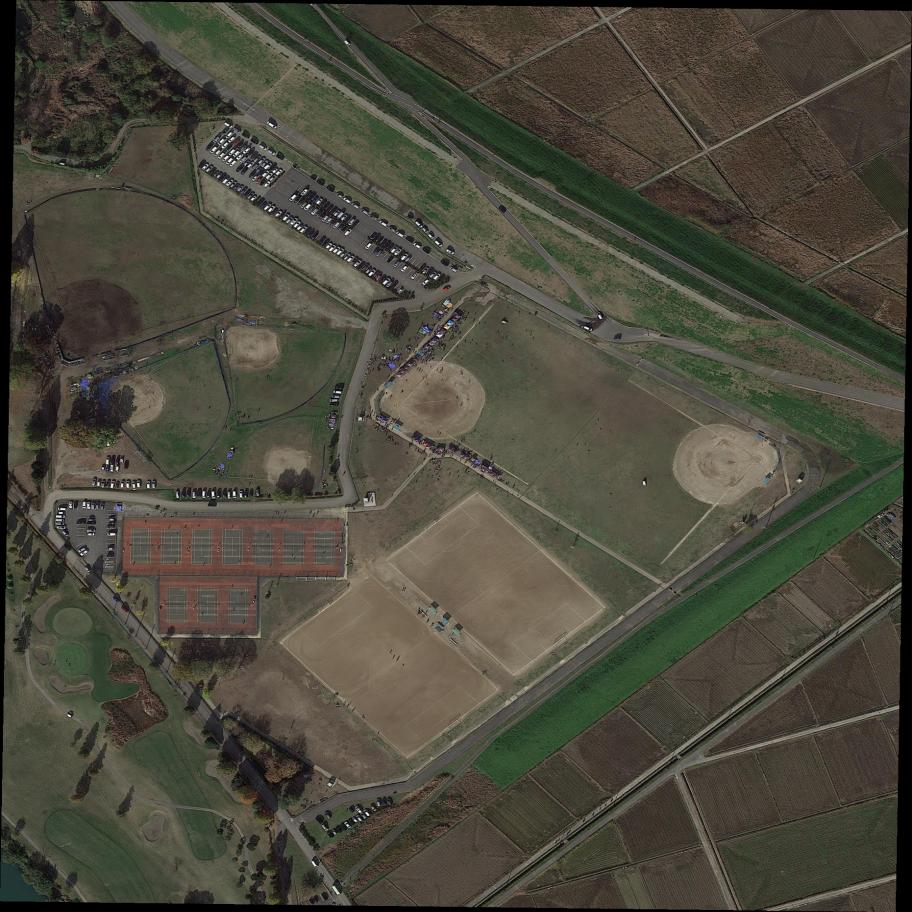large-vehicle: (335, 210, 345, 220), (59, 161, 67, 167)
small-vehicle: (495, 202, 509, 217), (345, 253, 356, 265), (217, 171, 228, 183), (409, 270, 420, 282), (298, 224, 309, 235), (306, 228, 317, 239), (224, 177, 235, 188), (208, 145, 219, 156), (252, 154, 263, 165), (62, 542, 73, 553), (433, 238, 444, 249), (249, 150, 259, 162), (320, 822, 330, 834), (440, 284, 452, 294), (197, 158, 207, 169), (289, 216, 299, 227), (281, 212, 291, 223), (205, 163, 215, 174), (262, 201, 272, 212), (353, 258, 363, 269), (368, 213, 379, 223), (367, 267, 377, 278), (399, 263, 409, 274), (331, 885, 341, 896), (231, 137, 242, 147), (262, 179, 272, 190), (235, 163, 245, 174), (220, 140, 230, 151), (212, 147, 222, 158), (216, 151, 227, 161), (263, 161, 273, 172), (242, 145, 252, 156), (260, 158, 270, 169), (388, 281, 398, 292), (329, 205, 339, 216), (371, 232, 381, 243), (382, 239, 392, 250), (222, 121, 234, 130), (273, 209, 283, 219), (246, 190, 256, 200), (310, 207, 320, 217), (288, 193, 298, 203), (392, 259, 402, 269), (374, 248, 384, 258), (364, 241, 374, 251), (372, 245, 382, 255), (224, 156, 234, 166), (224, 130, 234, 140), (211, 135, 221, 145), (216, 137, 226, 147), (261, 169, 271, 179), (264, 171, 274, 181), (204, 142, 214, 152), (235, 152, 245, 162), (238, 142, 248, 152), (257, 156, 267, 166), (396, 249, 406, 259), (354, 805, 364, 815), (255, 196, 265, 206), (347, 217, 357, 227), (321, 201, 331, 211), (421, 277, 431, 287), (303, 189, 313, 199), (292, 219, 301, 230), (236, 183, 245, 194), (243, 187, 252, 198), (361, 262, 370, 273), (385, 279, 394, 290), (386, 242, 395, 253), (420, 246, 431, 255), (414, 219, 423, 230), (404, 235, 415, 244), (311, 231, 320, 241), (328, 243, 337, 253), (332, 245, 341, 255), (343, 251, 352, 261), (285, 215, 294, 225), (229, 180, 238, 190), (221, 175, 230, 185), (232, 182, 241, 192), (267, 204, 276, 214), (239, 185, 248, 195), (249, 194, 258, 204), (342, 196, 352, 205), (350, 201, 360, 210), (360, 208, 370, 217), (320, 214, 329, 224), (329, 218, 339, 227), (382, 277, 392, 286), (386, 255, 395, 265), (332, 221, 341, 231), (343, 227, 352, 237), (266, 148, 276, 157), (227, 135, 237, 144), (268, 174, 277, 184), (275, 167, 284, 177), (242, 158, 251, 168), (251, 173, 260, 183), (240, 166, 249, 176), (246, 160, 255, 170), (232, 149, 241, 159), (221, 154, 231, 163), (227, 148, 237, 157), (378, 219, 388, 228), (395, 230, 405, 239), (412, 241, 422, 250), (79, 549, 89, 558), (84, 565, 93, 575), (323, 811, 332, 821), (121, 605, 130, 615), (418, 263, 427, 273), (378, 274, 387, 284), (350, 255, 359, 265), (260, 199, 269, 209), (343, 820, 352, 830), (355, 814, 364, 824), (363, 809, 372, 819), (369, 803, 378, 813), (369, 230, 378, 240), (399, 253, 409, 262), (315, 196, 324, 206), (421, 266, 430, 276), (249, 137, 260, 145), (445, 248, 456, 256), (318, 235, 327, 244), (336, 247, 345, 256), (212, 169, 221, 178), (296, 197, 305, 206), (307, 205, 316, 214), (303, 203, 312, 212), (299, 201, 308, 210), (325, 216, 334, 225), (201, 162, 210, 171), (228, 159, 237, 168), (220, 128, 229, 137), (250, 162, 259, 171), (270, 166, 279, 175), (239, 155, 248, 164), (388, 225, 397, 234), (61, 530, 70, 539), (65, 712, 74, 721), (425, 268, 434, 277), (112, 595, 121, 604), (440, 259, 449, 268), (351, 220, 360, 229), (371, 269, 380, 278), (350, 816, 359, 825), (376, 236, 385, 245), (339, 213, 348, 222), (325, 204, 334, 213), (332, 208, 341, 217), (393, 248, 402, 257), (428, 270, 437, 279), (427, 232, 436, 241), (316, 178, 325, 187), (309, 173, 318, 182), (308, 191, 317, 200), (315, 209, 323, 219), (335, 191, 345, 199), (315, 815, 323, 825), (232, 127, 242, 135), (258, 144, 268, 152), (275, 153, 285, 161), (267, 121, 277, 129), (390, 245, 398, 255), (448, 265, 458, 273), (583, 325, 594, 332), (185, 488, 192, 499), (296, 223, 304, 232), (322, 238, 330, 247), (325, 241, 333, 250), (339, 250, 347, 259), (319, 211, 327, 220), (294, 195, 302, 204), (375, 273, 383, 282), (396, 287, 404, 296), (340, 224, 348, 233), (337, 222, 345, 231), (311, 860, 319, 869), (242, 132, 251, 140), (259, 178, 267, 187), (255, 176, 263, 185), (248, 170, 256, 179), (77, 546, 86, 554), (327, 831, 335, 840), (330, 829, 338, 838), (340, 823, 348, 832), (404, 255, 412, 264), (300, 188, 308, 197), (326, 185, 336, 192), (135, 479, 142, 489), (104, 479, 111, 489), (180, 489, 186, 500), (215, 172, 223, 180), (360, 812, 368, 820), (421, 226, 429, 234), (312, 195, 320, 203), (433, 273, 441, 281), (365, 266, 372, 275), (375, 799, 382, 808), (222, 490, 228, 500), (232, 490, 238, 500), (211, 490, 217, 500), (191, 490, 197, 500), (91, 477, 97, 487), (596, 312, 603, 320), (255, 166, 262, 174), (336, 826, 343, 834), (386, 798, 393, 806), (68, 501, 74, 510), (381, 798, 387, 807), (216, 490, 222, 499), (206, 490, 212, 499), (110, 480, 116, 489), (114, 480, 120, 489), (125, 480, 131, 489), (174, 490, 180, 499), (107, 532, 117, 537), (131, 481, 136, 491), (197, 488, 202, 498), (331, 394, 341, 399), (333, 390, 343, 395), (335, 385, 345, 390), (124, 459, 129, 469), (344, 39, 351, 46), (151, 481, 157, 489), (105, 457, 111, 465), (244, 490, 249, 499), (91, 502, 96, 511), (95, 502, 100, 511), (613, 336, 622, 341), (201, 490, 206, 499), (120, 480, 125, 489), (101, 479, 106, 488), (56, 526, 67, 530), (55, 515, 66, 519), (207, 503, 218, 507), (349, 807, 355, 814), (86, 529, 96, 533), (54, 522, 64, 526), (55, 518, 65, 522), (255, 489, 260, 497), (100, 503, 105, 511), (57, 507, 67, 511), (329, 403, 339, 407), (119, 455, 124, 463), (105, 465, 110, 473), (76, 521, 85, 525), (87, 501, 91, 510), (147, 481, 151, 490), (329, 398, 338, 402), (239, 491, 244, 498), (82, 502, 87, 509), (96, 480, 101, 487), (100, 464, 105, 471), (115, 466, 120, 473), (227, 491, 231, 499), (74, 501, 78, 509), (111, 457, 115, 464), (116, 458, 120, 465), (110, 465, 114, 472), (106, 518, 115, 521), (106, 526, 115, 529), (107, 522, 116, 525), (87, 533, 96, 536), (88, 518, 97, 521), (87, 522, 96, 525), (106, 547, 115, 550), (105, 555, 114, 558), (57, 512, 65, 515)
